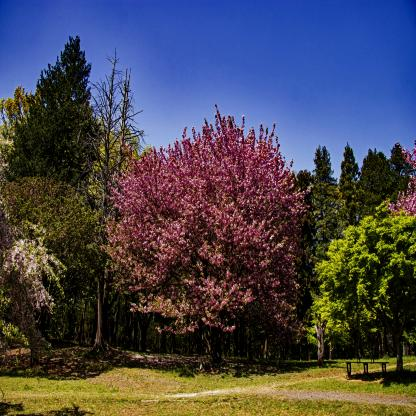YaeSakura: (106, 103, 306, 334), (0, 196, 50, 332), (392, 129, 416, 216)
